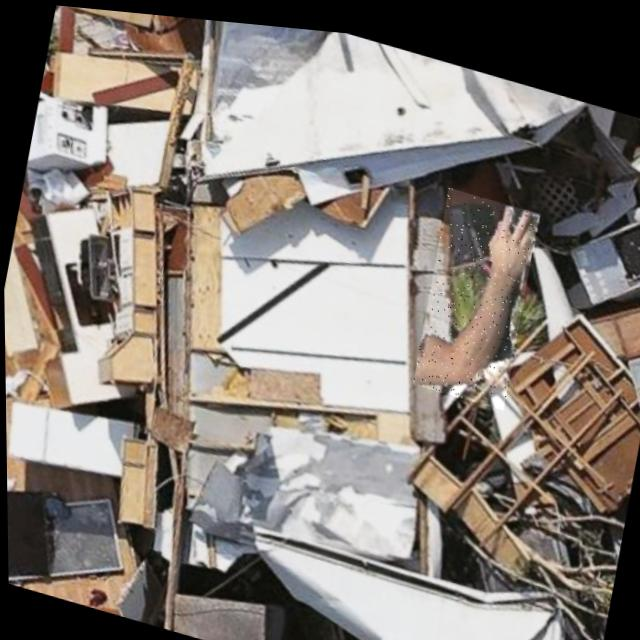Person in Rubble: (410, 175, 541, 403)
